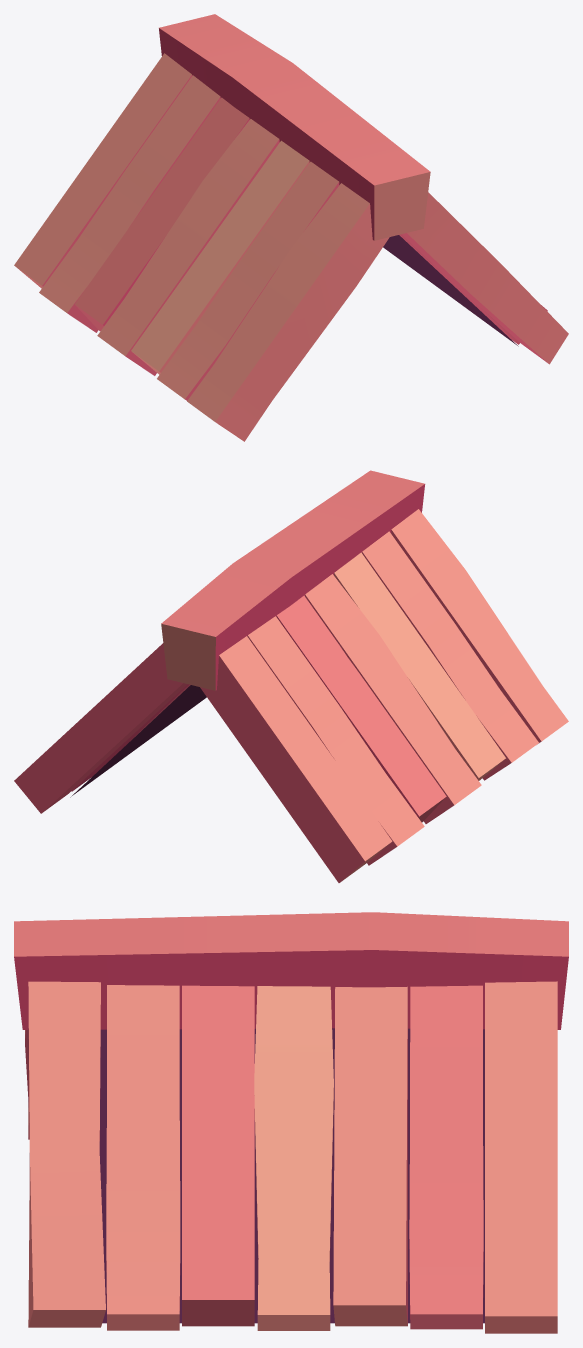
The model's file is Roof02_Pink.glb.
The picture shows the model from 3 angles, top to bottom: view 1: azimuth 30°, elevation 25°; view 2: azimuth 150°, elevation 25°; view 3: azimuth 270°, elevation 25°; orthographic projection. The views are drawn at different scales.
Visible parts, largest first — view 1: Roof02_Pink; view 2: Roof02_Pink; view 3: Roof02_Pink.
Boxes of the visible parts, x1,y1,x2,y2 form: Roof02_Pink: (14, 14, 568, 441); Roof02_Pink: (14, 470, 568, 882); Roof02_Pink: (14, 912, 568, 1333).
Bounding box in the file's own units: 2.41 × 1.49 × 2.46.
1 material, 1 textured.
